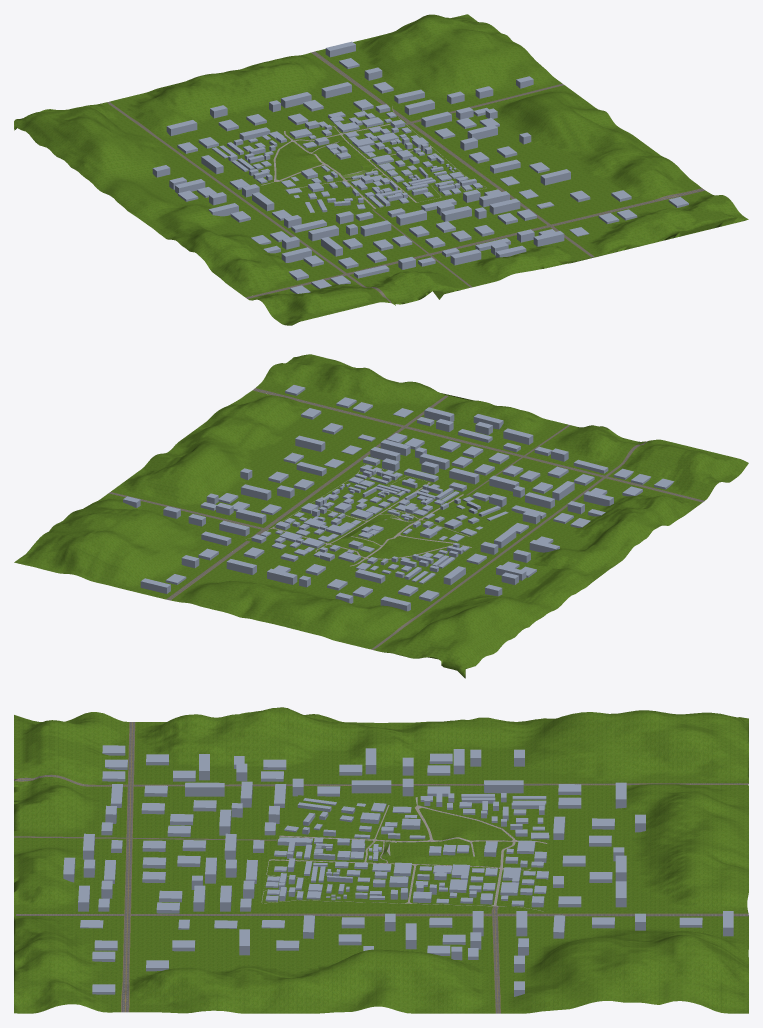
3 renders of one model, top to bottom at view 1: azimuth 30°, elevation 25°; view 2: azimuth 150°, elevation 25°; view 3: azimuth 270°, elevation 25°, orthographic. The views are drawn at different scales.
Visible parts, largest first — view 1: CJ-CP-001, CJ-FZ-001, CJ-FZ-002, CJ-CP-002; view 2: CJ-CP-001, CJ-FZ-001, CJ-FZ-002, CJ-CP-002; view 3: CJ-CP-001, CJ-FZ-001, CJ-CP-002, CJ-FZ-002.
Boxes of the visible parts, x1,y1,x2,y2 form: CJ-CP-001: (14, 14, 748, 325); CJ-FZ-001: (152, 41, 688, 293); CJ-FZ-002: (212, 104, 482, 212); CJ-CP-002: (211, 105, 486, 215); CJ-CP-001: (14, 354, 748, 678); CJ-FZ-001: (123, 385, 674, 611); CJ-FZ-002: (251, 464, 508, 584); CJ-CP-002: (244, 464, 514, 584); CJ-CP-001: (14, 707, 748, 1013); CJ-FZ-001: (63, 745, 733, 996); CJ-CP-002: (261, 795, 547, 911); CJ-FZ-002: (265, 793, 549, 907).
Bounding box in the file's own units: 6250 × 438 × 6653.
Materials: 7 (6 with a texture image).
